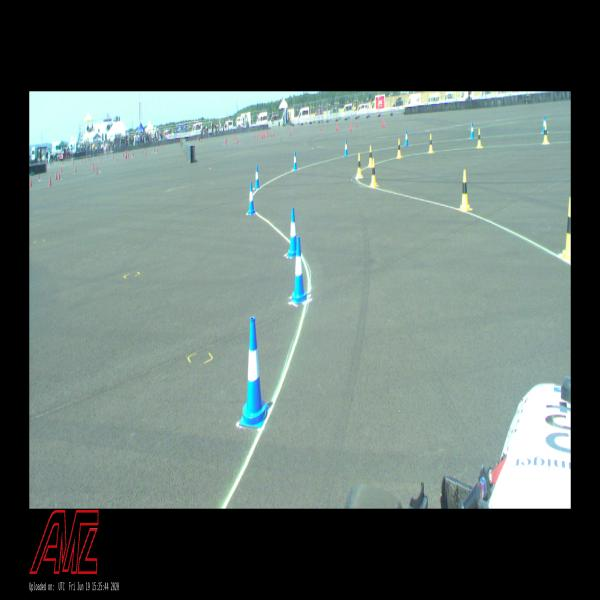blue_cone: (240, 317, 269, 427), (292, 237, 307, 302), (288, 207, 296, 257), (248, 182, 255, 214), (255, 166, 260, 188), (293, 151, 297, 170), (344, 140, 348, 157), (543, 116, 547, 133), (470, 122, 474, 138), (405, 130, 408, 146)
yellow_cone: (561, 197, 571, 261), (460, 170, 471, 212), (370, 159, 377, 187), (356, 154, 362, 178), (397, 139, 402, 158), (543, 124, 548, 143), (477, 128, 481, 148), (429, 134, 433, 152), (369, 146, 372, 167)
